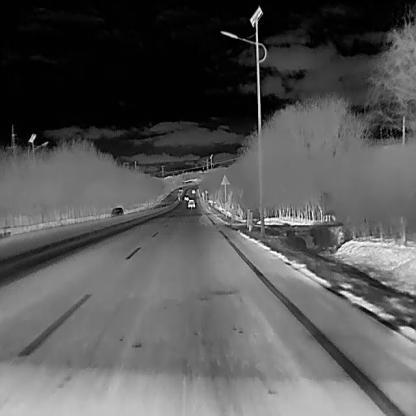car: (109, 207, 122, 217), (188, 198, 195, 207)
